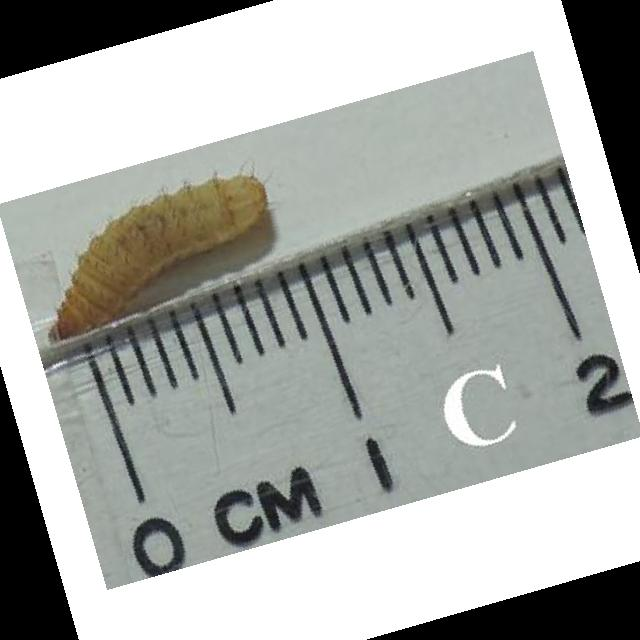Maggot: (46, 172, 274, 346)
